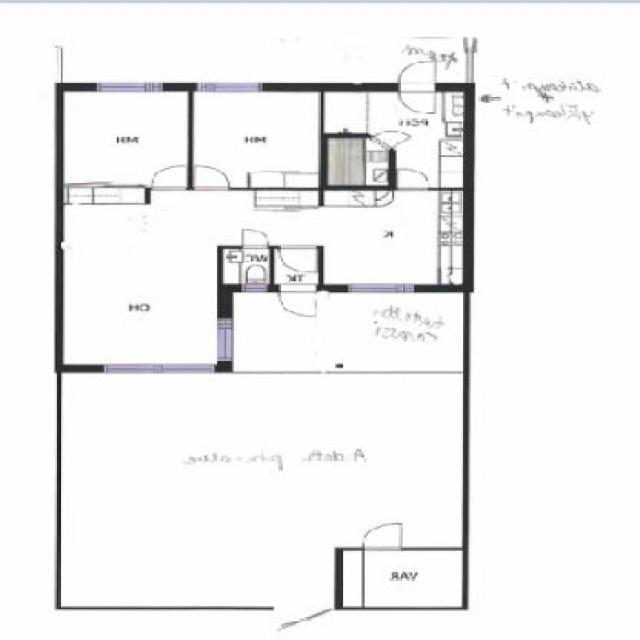door: (392, 61, 440, 117), (276, 245, 326, 277), (274, 283, 320, 317), (362, 520, 408, 552), (398, 168, 442, 198), (195, 164, 231, 198), (151, 167, 191, 196), (371, 128, 411, 149), (245, 229, 266, 251)
window: (109, 364, 214, 378), (202, 80, 262, 94), (218, 317, 237, 358), (94, 82, 163, 90), (343, 285, 414, 292), (242, 283, 264, 292)
zone: (54, 371, 460, 609), (62, 188, 460, 370), (237, 292, 466, 372), (325, 94, 460, 186), (190, 92, 318, 186), (64, 91, 184, 186), (334, 549, 461, 606)
